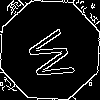W: (25, 25, 85, 85)
